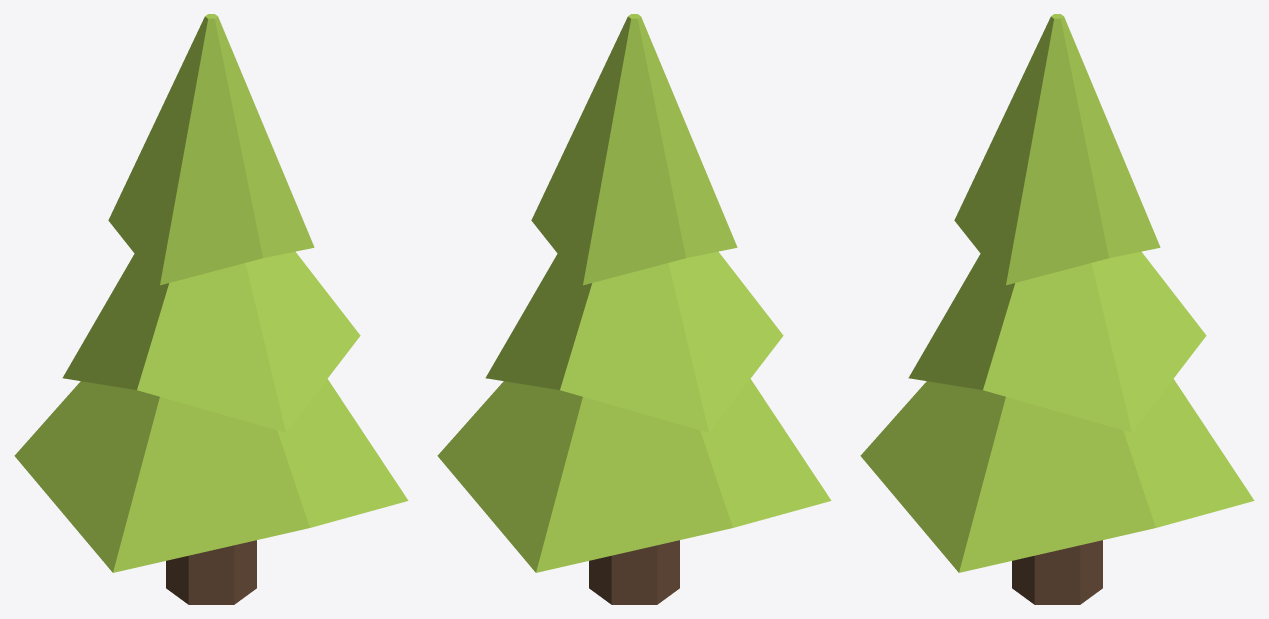
Rendered from Árvorezinha 2.fbx.
The picture shows the model from 3 angles, left to right: view 1: azimuth 30°, elevation 25°; view 2: azimuth 150°, elevation 25°; view 3: azimuth 270°, elevation 25°; orthographic projection.
Visible parts, largest first — view 1: Árvorezinha 1; view 2: Árvorezinha 1; view 3: Árvorezinha 1.
Part boxes in pixels (box(x1,y1,x2,y2)): Árvorezinha 1: box(14, 14, 408, 604); Árvorezinha 1: box(437, 14, 831, 604); Árvorezinha 1: box(860, 14, 1254, 604).
Bounding box in the file's own units: 823 × 1521 × 950.
